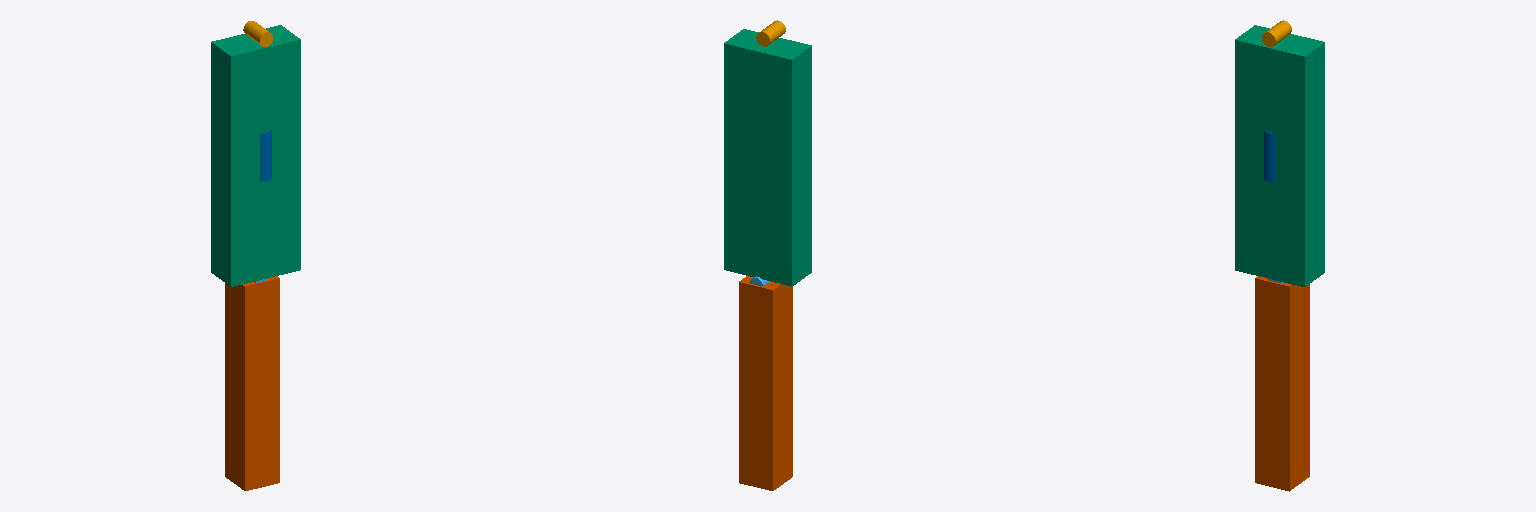
URDF robot description (test):
<?xml version="1.0"?>
<robot name="test">

    <link name="upperLegCylinderR">
        <visual>
            <geometry>
                <cylinder length="0.04" radius="0.01"/>
            </geometry>
            <origin xyz="0 0 0.02" rpy="1.57 0 0"/>
            <axis xyz="0 0 0" />
            <material name="red"/>
        </visual>
        <inertial>
            <mass value="0.0000001"/>
            <inertia ixx="0" ixy="0" ixz="0.0" iyy="0" iyz="0.0" izz="0"/>
        </inertial>
    </link>

    <joint name="jointLowerLegR" type="revolute">
        <parent link="upperLegCylinderR"/>
        <child link="lowerlegCylinderR"/>
        <origin xyz="0.00110 0.0140 -0.3155" rpy="0 0 0"/>
        <axis xyz="0 1 0"/>
        <limit effort="90" lower="0" upper="1.570796" velocity="672"/>
        <dynamics damping="0.198431592389"/>
    </joint>

    <link name="lowerlegCylinderR">
        <visual>
            <geometry>
                <cylinder length="0.044" radius="0.01"/>
            </geometry>
            <origin xyz="0 0 0" rpy="1.57075 0 0"/>
            <axis xyz="0 0 0" />
            <material name="red"/>
        </visual>
        <inertial>
            <mass value="0"/>
            <inertia ixx="0" ixy="0" ixz="0.0" iyy="0" iyz="0.0" izz="672"/>
        </inertial>
    </link>

    <joint name="fixed_upperLegBridgeR" type="fixed">
        <parent link="upperLegCylinderR"/>
        <child link="upperLegBridgeR"/>
    </joint>

    <link name="upperLegBridgeR">
        <visual>
            <geometry>
                <box size="0.1 0.05 0.3155"/>
            </geometry>
            <origin xyz="0.0005 0.007 -0.15" rpy="0 0 0"/>
            <material name="upperLegLinkColor" />
        </visual>
        <inertial>
            <mass value="1.94"/>
            <inertia ixx="0.0104" ixy="-0.00000195" ixz="0.0000231" iyy="0.00933" iyz="-0.000127" izz="0.00161"/>
            <origin xyz="-0.00154  -0.00421 -0.111" rpy="0 0 0"/>
        </inertial>
        <collision>
            <geometry>
                <box size="0.1 0.05 0.3155"/>
            </geometry>
            <origin xyz="0.0005 0.007 -0.15" rpy="0 0 0"/>
        </collision>
    </link>

    <joint name="legToHinge" type="fixed">
        <parent link="upperLegCylinderR"/>
        <child link="hinge"/>
        <origin xyz="0 0 -0.1" rpy="0 0 0"/>
        <axis xyz="0 0 1"/>
    </joint>

    <link name="hinge">
        <visual>
            <geometry>
                <cylinder length="0.02" radius="0.005"/>
            </geometry>
            <origin xyz="0 0 0" rpy="0 0 0"/>
            <axis xyz="0 0 1" />
            <material name="red"/>
        </visual>
        <inertial>
            <mass value="0.00001"/>
            <inertia ixx="0.0000001" ixy="0" ixz="0.0" iyy="0.0000001" iyz="0.0" izz="0.0000001"/>
        </inertial>
    </link>

    <joint name="hingeToMotor" type="revolute">
        <parent link="hinge"/>
        <child link="motor"/>
        <origin xyz="0 0 -0.01" rpy="0 0 0"/>
        <axis xyz="0 0 1"/>
        <limit effort="90" lower="-1.57" upper="1.57" velocity="672"/>
        <dynamics damping="0.0"/>
    </joint>

    <link name="motor">
        <visual>
            <geometry>
                <cylinder length="0.066714" radius="0.02"/>
            </geometry>
            <origin xyz="0 0 -0.03" rpy="0 0 0"/>
            <axis xyz="0 0 1" />
            <material name="red"/>
        </visual>
        <inertial>
            <mass value="0.59"/>
            <inertia ixx="0.001" ixy="0.00" ixz="0.0" iyy="0.001" iyz="0.0" izz="0.001"/>
        </inertial>
        <collision>
            <geometry>
                <cylinder length="0.066714" radius="0.02"/>
            </geometry>
            <origin xyz="0 0 -0.03" rpy="0 0 0"/>
        </collision>
    </link>

    <joint name="fixed_lowerLegBridgeR" type="fixed">
        <parent link="lowerlegCylinderR"/>
        <child link="lowerLegBridgeR"/>
    </joint>

    <link name="lowerLegBridgeR">
        <visual>
            <geometry>
                <box size="0.05 0.05 0.28"/>
            </geometry>
            <origin xyz="-0.0015 0 -0.14" rpy="0 0 0"/>
            <material name="upperLegLinkColor" />
        </visual>
        <inertial>
            <mass value="0.267"/>
            <inertia ixx="2.52" ixy="-0.000411" ixz="-0.0238" iyy="2.45" iyz="0.0366" izz="0.110"/>
            <origin xyz="0.00135  0.00496 -0.105" rpy="0 0 0"/>
        </inertial>
        <collision>
            <geometry>
                <box size="0.05 0.05 0.28"/>
            </geometry>
            <origin xyz="0.0015 0 -0.14" rpy="0 0 0"/>
            <!-- <contact_coefficient mu="0.0960723602789"  resitution="0"  k_p="4000"  k_d="0.198431592389" /> -->
        </collision>
    </link>

</robot>

--- Render facts (derived) ---
Views: 3 orthographic renders of the robot side by side, from view 1: azimuth 30°, elevation 25°; view 2: azimuth 150°, elevation 25°; view 3: azimuth 330°, elevation 25°.
Robot: test — 6 links, 5 joints (2 revolute, 3 fixed); root link upperLegCylinderR; default pose: every joint at zero.
Visible links, largest first — view 1: upperLegBridgeR, lowerLegBridgeR, motor; view 2: upperLegBridgeR, lowerLegBridgeR; view 3: upperLegBridgeR, lowerLegBridgeR, motor.
Link boxes in pixels (x1,y1,x2,y2): upperLegBridgeR: (211, 25, 300, 286); lowerLegBridgeR: (225, 276, 279, 490); motor: (260, 130, 271, 181); upperLegBridgeR: (724, 29, 811, 286); lowerLegBridgeR: (739, 276, 792, 490); upperLegBridgeR: (1235, 25, 1324, 286); lowerLegBridgeR: (1255, 276, 1309, 491); motor: (1264, 131, 1275, 181).
Bounding box of the posed robot: 0.1 × 0.059 × 0.6255 m (x, y, z).
Geometry: primitives only (box / cylinder / sphere), no mesh files.